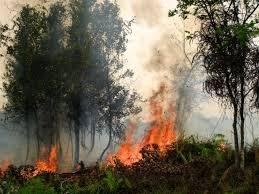fire: (106, 92, 180, 167), (20, 142, 60, 176)
